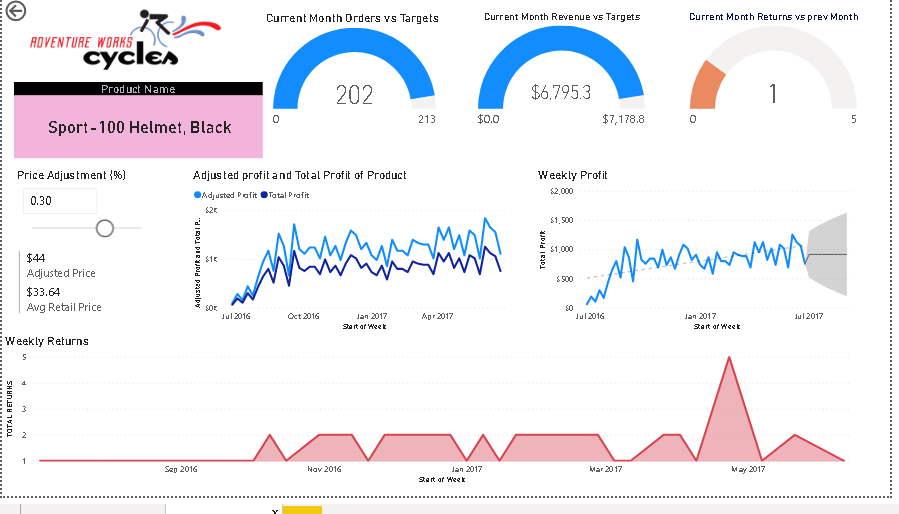

What the dashboard file says about the page in this screenshot:
{"tool":"powerbi","page":{"name":"Product Detail","canvas":[1280,720],"ordinal":1},"visuals":[{"type":"image","box":[0,13,359.3,96.7],"z":0},{"type":"lineChart","title":"Weekly Profit","fields":{"Y":["AW_Sales.Total Profit"],"Category":["AW_Calender_lookup.Start of Week"]},"box":[769.1,246.7,476.2,239.5],"z":1000},{"type":"stackedAreaChart","title":"Weekly Returns","fields":{"Category":["AW_Calender_lookup.Start of Week"],"Y":["AW_Returns.TOTAL RETURNS"]},"box":[0,486.3,1245.2,220.8],"z":2000},{"type":"gauge","title":"Current Month Orders vs Targets","fields":{"Y":["AW_Sales.Total Orders"],"MaxValue":["AW_Sales.Order Target"]},"box":[376.6,20.2,264,177.5],"z":3000},{"type":"gauge","title":"Current Month Revenue  vs Targets","fields":{"Y":["AW_Sales.Total Revenue Measure"],"MaxValue":["AW_Sales.Revenue Target"]},"box":[675.3,20.2,264,177.5],"z":4000},{"type":"gauge","title":"Current Month Returns vs prev Month","fields":{"Y":["AW_Returns.TOTAL RETURNS"],"MaxValue":["AW_Returns.prev Month Returns"]},"box":[981.2,20.2,264,177.5],"z":5000},{"type":"card","title":"Product Name","fields":{"Values":["Min(AW_product_lookup.ProductName)"]},"box":[17.3,122.6,359.3,109.7],"z":6000},{"type":"actionButton","box":[0,0,100,40],"z":7000},{"type":"slicer","title":"Price Adjustment (%)","fields":{"Values":["Price Adjustment (%).Price Adjustment (%)"]},"box":[17.3,246.7,206.3,137.1],"z":8000},{"type":"multiRowCard","fields":{"Values":["AW_product_lookup.Adjusted Price","AW_product_lookup.Avg Retail Price"]},"box":[18.8,360.7,178.9,112.5],"z":9000},{"type":"lineChart","title":"Adjusted profit and Total Profit of Product","fields":{"Category":["AW_Calender_lookup.Start of Week"],"Y":["AW_product_lookup.Adjusted Profit","AW_Sales.Total Profit"]},"box":[271.3,246.7,476.2,239.5],"z":10000}]}

Visuals, with their boxes in screenshot pixels (x1, y1, x2, y2), scaled from the page's 1280x720 canvas onto the 899x514 screenshot:
image: locate(0, 9, 252, 78)
"Weekly Profit" lineChart: locate(540, 176, 875, 347)
"Weekly Returns" stackedAreaChart: locate(0, 347, 875, 505)
"Current Month Orders vs Targets" gauge: locate(265, 14, 450, 141)
"Current Month Revenue  vs Targets" gauge: locate(474, 14, 660, 141)
"Current Month Returns vs prev Month" gauge: locate(689, 14, 875, 141)
"Product Name" card: locate(12, 88, 265, 166)
actionButton: locate(0, 0, 70, 29)
"Price Adjustment (%)" slicer: locate(12, 176, 157, 274)
multiRowCard - AW_product_lookup.Adjusted Price x AW_product_lookup.Avg Retail Price: locate(13, 257, 139, 338)
"Adjusted profit and Total Profit of Product" lineChart: locate(191, 176, 525, 347)
